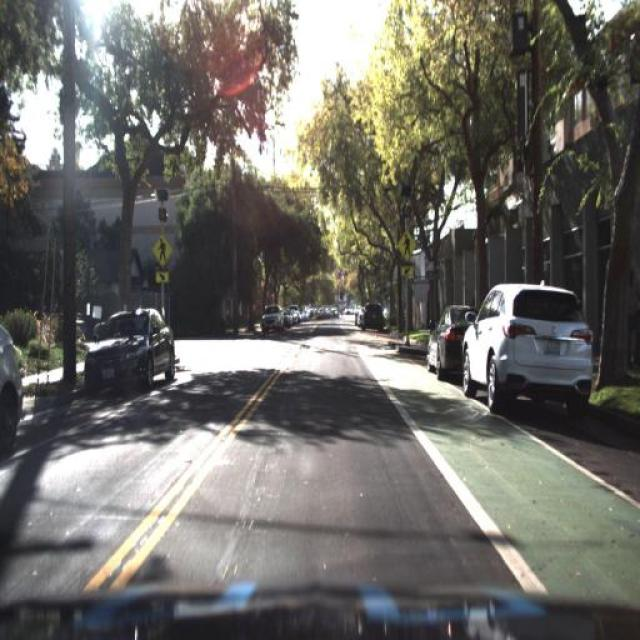car: (460, 279, 596, 415), (76, 298, 176, 400), (422, 295, 480, 385), (427, 297, 478, 383), (0, 310, 25, 465), (358, 298, 388, 334), (256, 300, 285, 336), (358, 300, 383, 330)
